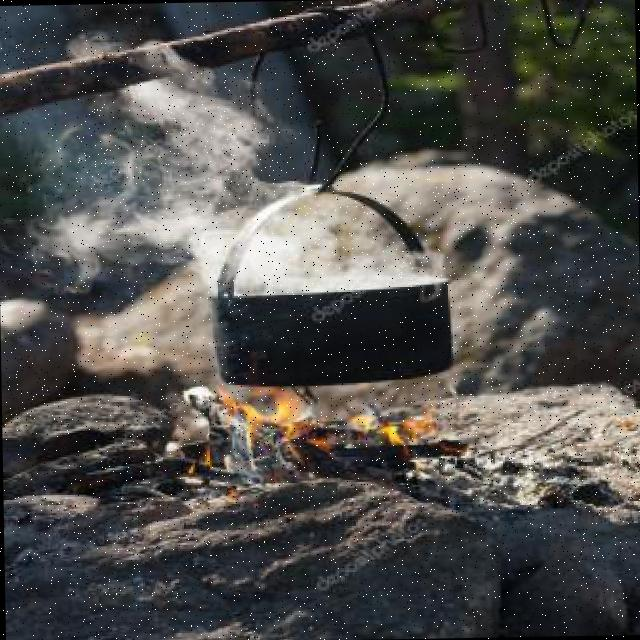fire: (208, 379, 439, 484)
